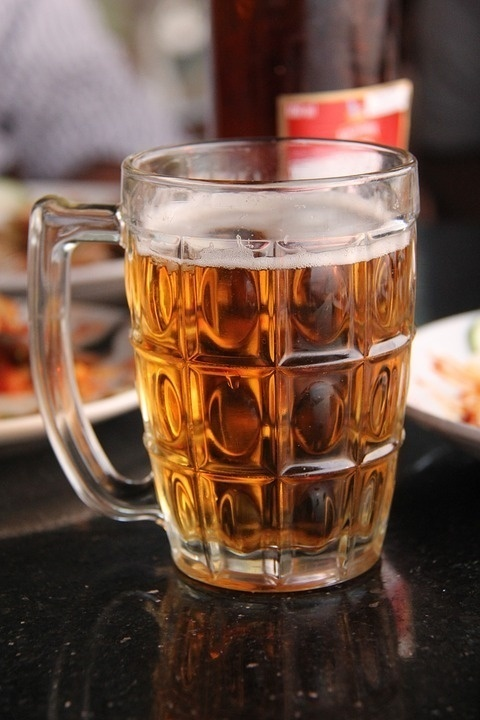whiskey: (139, 145, 417, 596)
